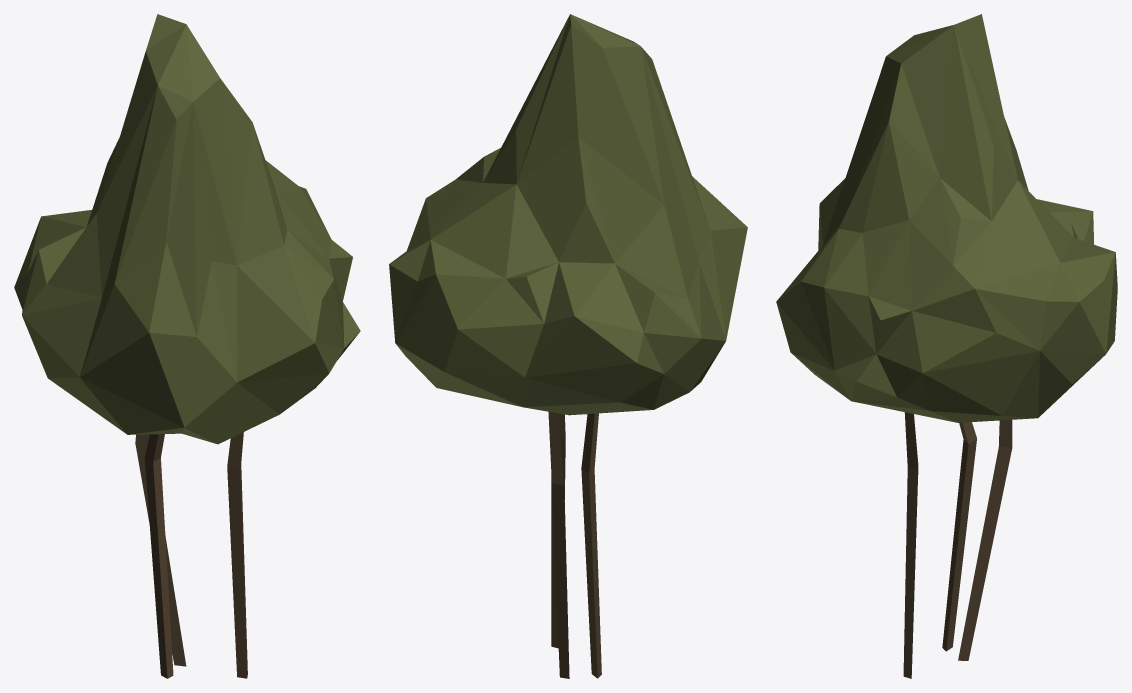
Rendered from SM_Env_Bush_02.glb.
The picture shows the model from 3 angles, left to right: view 1: azimuth 30°, elevation 25°; view 2: azimuth 150°, elevation 25°; view 3: azimuth 270°, elevation 25°; orthographic projection. The views are drawn at different scales.
Visible parts, largest first — view 1: SM_Env_Bush_02_part00; view 2: SM_Env_Bush_02_part00; view 3: SM_Env_Bush_02_part00.
Boxes of the visible parts, bbox=[...] form: SM_Env_Bush_02_part00: bbox=[14, 14, 360, 678]; SM_Env_Bush_02_part00: bbox=[389, 14, 747, 678]; SM_Env_Bush_02_part00: bbox=[776, 14, 1117, 678].
Bounding box in the file's own units: 0.7146 × 1.53 × 0.7418.
1 material, 1 textured.
